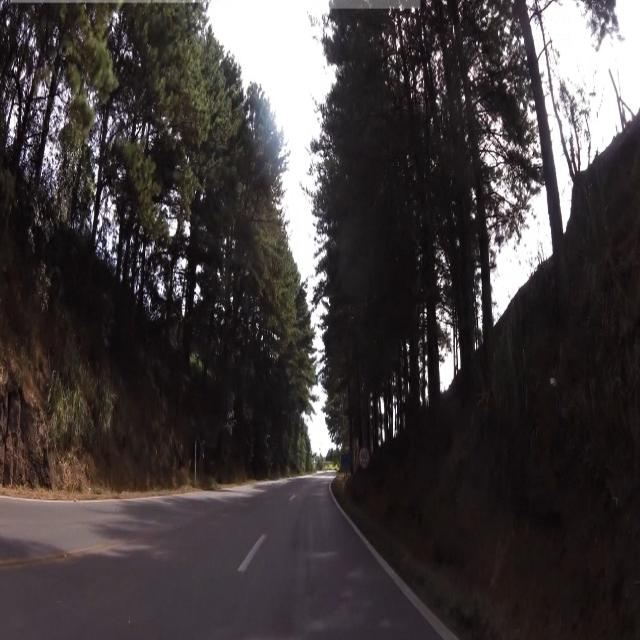R-19: (358, 447, 369, 468)
